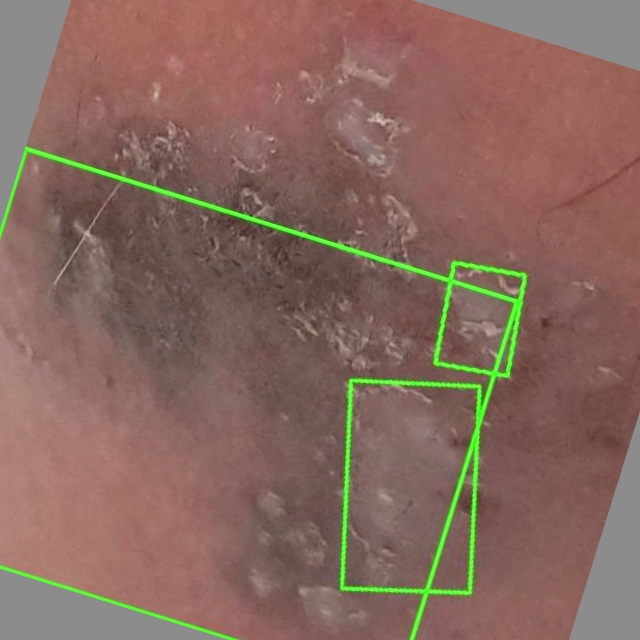Contact Dermatitis: (0, 148, 516, 639), (342, 380, 479, 594), (435, 263, 525, 376)
